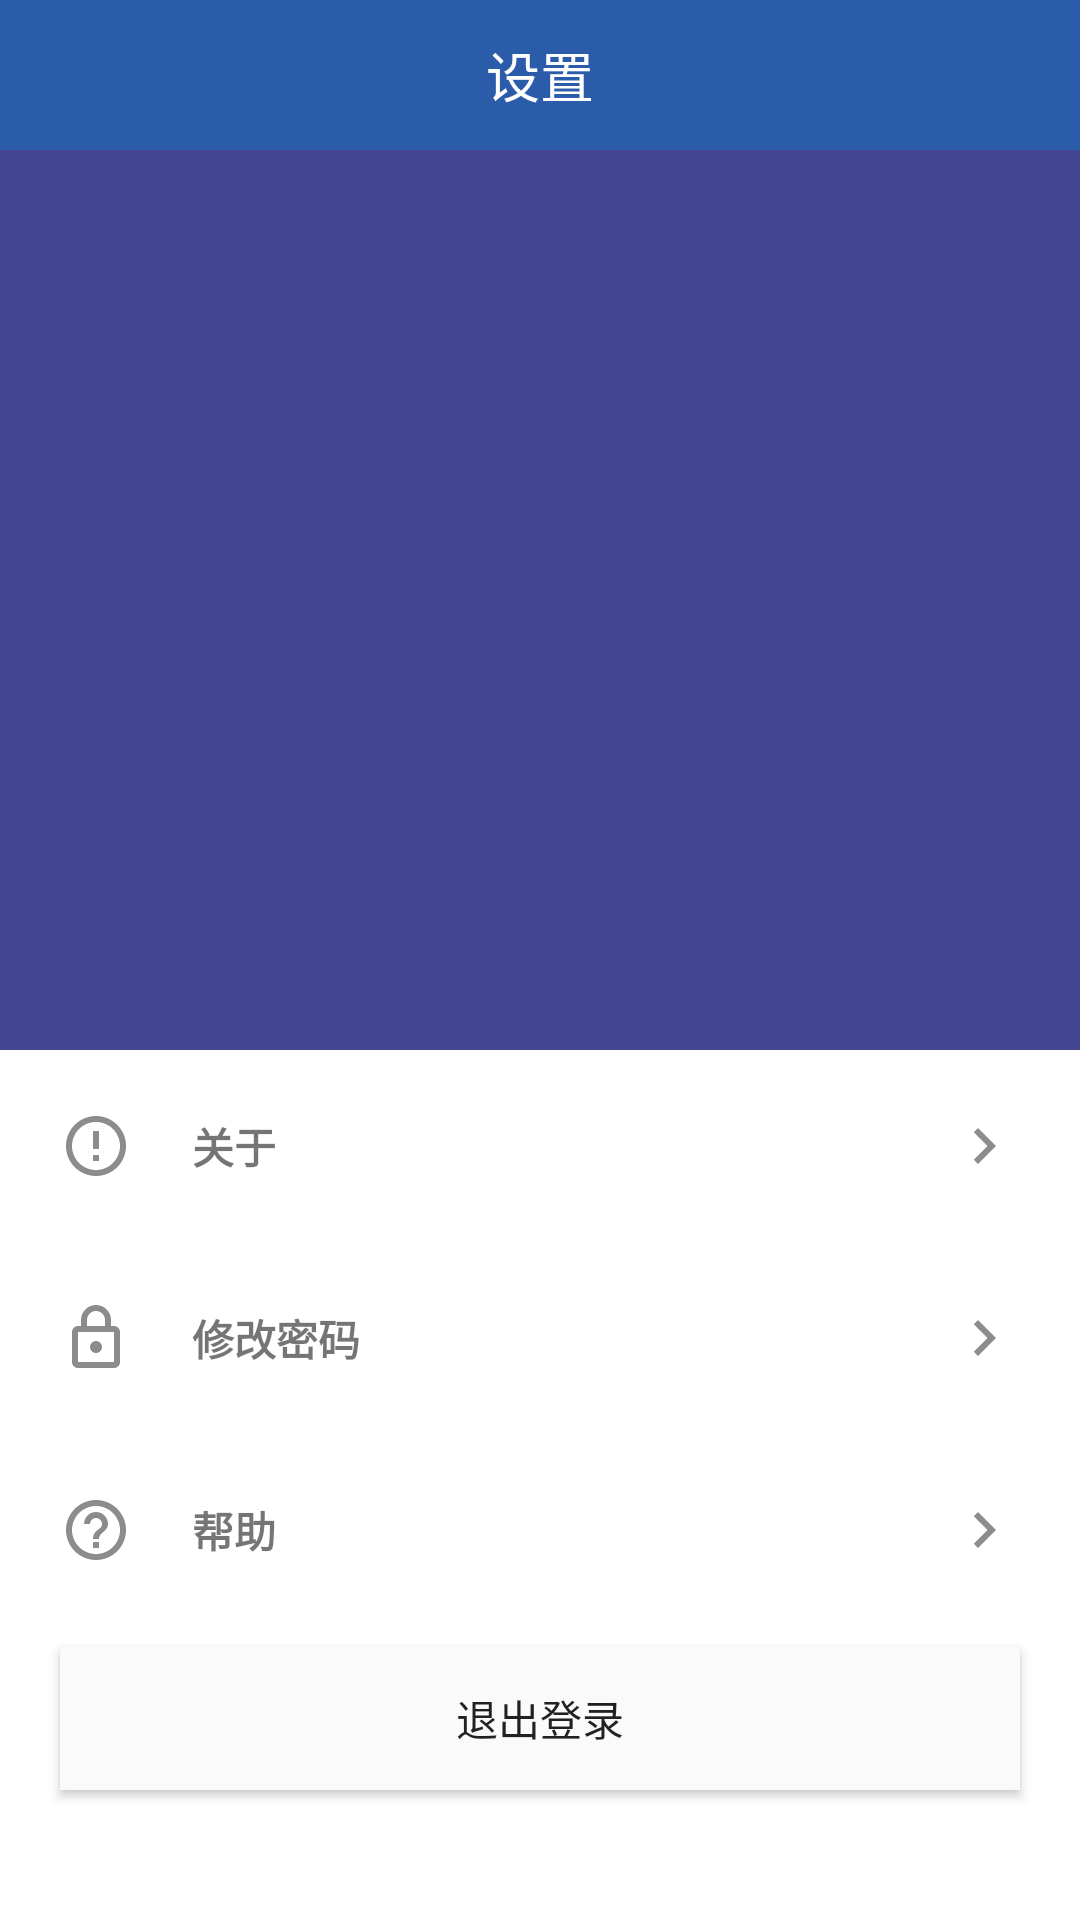

Icons on this 1080w x 1920h Android screen, each with its box as (x1, y1, x2, y2):
chevron right: (974, 1128, 996, 1164), (974, 1320, 996, 1356), (974, 1512, 996, 1548)
error: (66, 1116, 126, 1176)
help: (66, 1500, 126, 1560)
lock: (72, 1305, 120, 1368)
